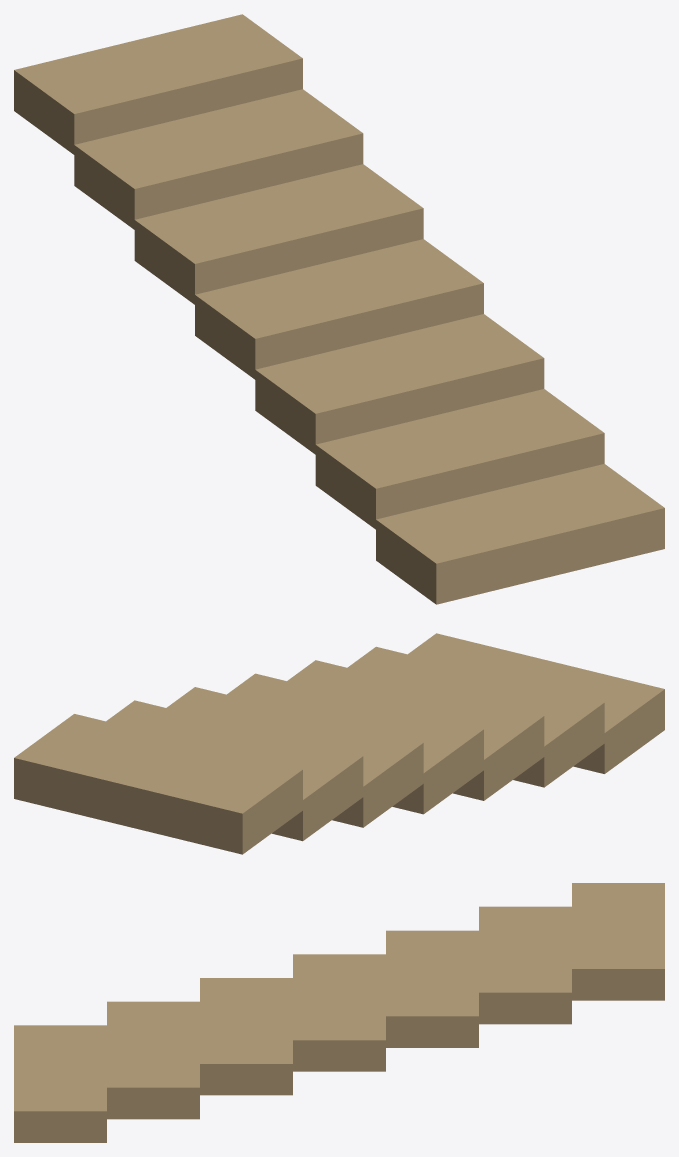
Rendered from stairs.glb.
3 renders of one model, top to bottom at view 1: azimuth 30°, elevation 25°; view 2: azimuth 150°, elevation 25°; view 3: azimuth 270°, elevation 25°, orthographic. The views are drawn at different scales.
Parts seen in each view (by area): view 1: Stairs; view 2: Stairs; view 3: Stairs.
Part boxes in pixels (x1,y1,x2,y2): Stairs: (14, 14, 664, 604); Stairs: (14, 633, 664, 854); Stairs: (14, 883, 664, 1142).
Size of the model in its own units: 1.4 by 1.32 by 4.48.
